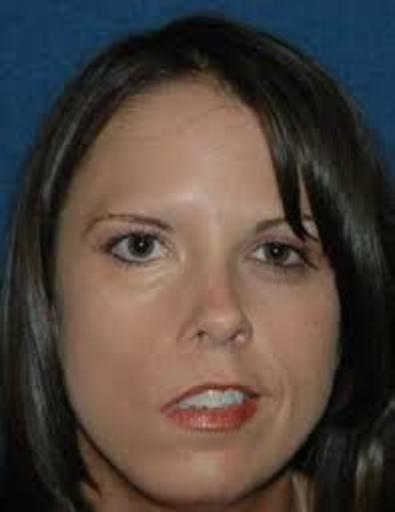left_eye: (243, 241, 319, 277)
left_lip_corner: (249, 382, 275, 408)
right_eye: (100, 229, 177, 269)
right_lip_corner: (153, 395, 180, 424)
